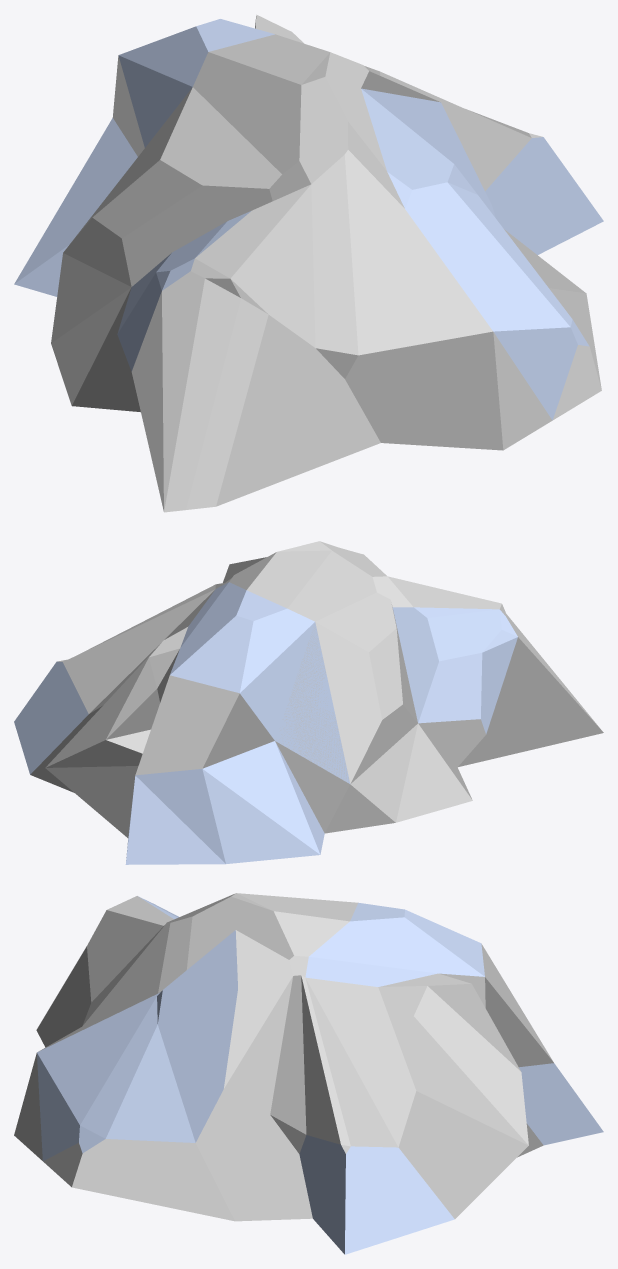
File: ICEBERG_PURPLE_2.fbx
3 views of the same model, one above another, from view 1: azimuth 30°, elevation 25°; view 2: azimuth 150°, elevation 25°; view 3: azimuth 270°, elevation 25° (orthographic). The views are drawn at different scales.
Parts seen in each view (by area): view 1: Plane; view 2: Plane; view 3: Plane.
Boxes of the visible parts, x1,y1,x2,y2 form: Plane: (14,14,603,512); Plane: (14,541,603,864); Plane: (14,893,603,1254).
Bounding box in the file's own units: 956 × 928 × 406.
